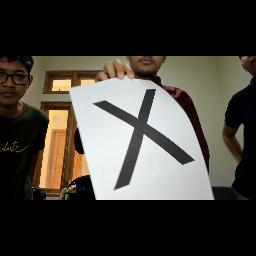x: (88, 84, 202, 192)
